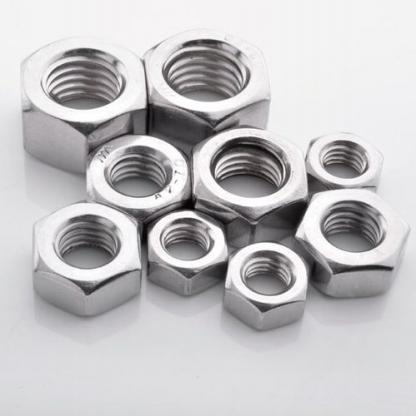FOD: (18, 30, 151, 175), (185, 123, 310, 247), (139, 25, 273, 140), (28, 200, 146, 320), (290, 185, 412, 296), (84, 132, 193, 222), (219, 237, 316, 335), (141, 206, 231, 299), (303, 128, 386, 206)
